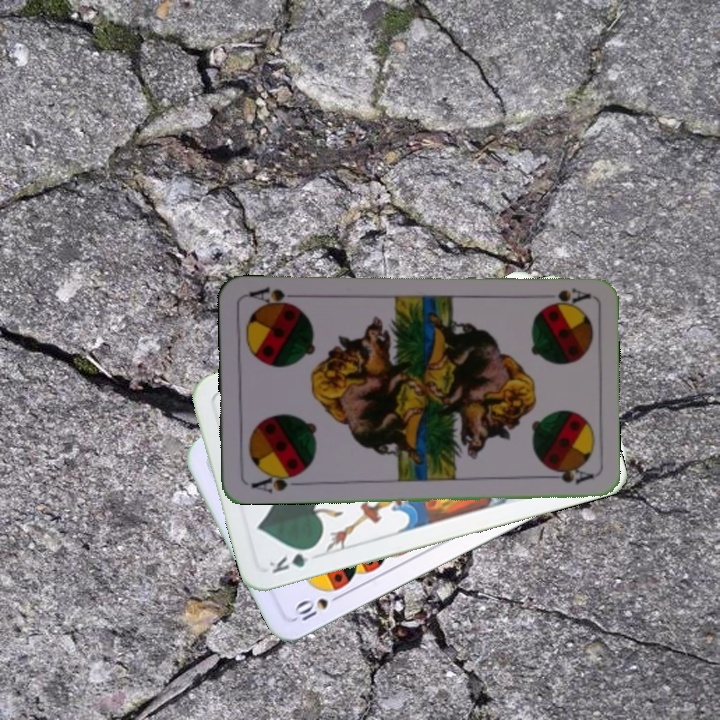GK: (265, 542, 319, 576)
S10: (289, 589, 346, 624)
SA: (248, 468, 304, 495), (545, 284, 592, 307)
